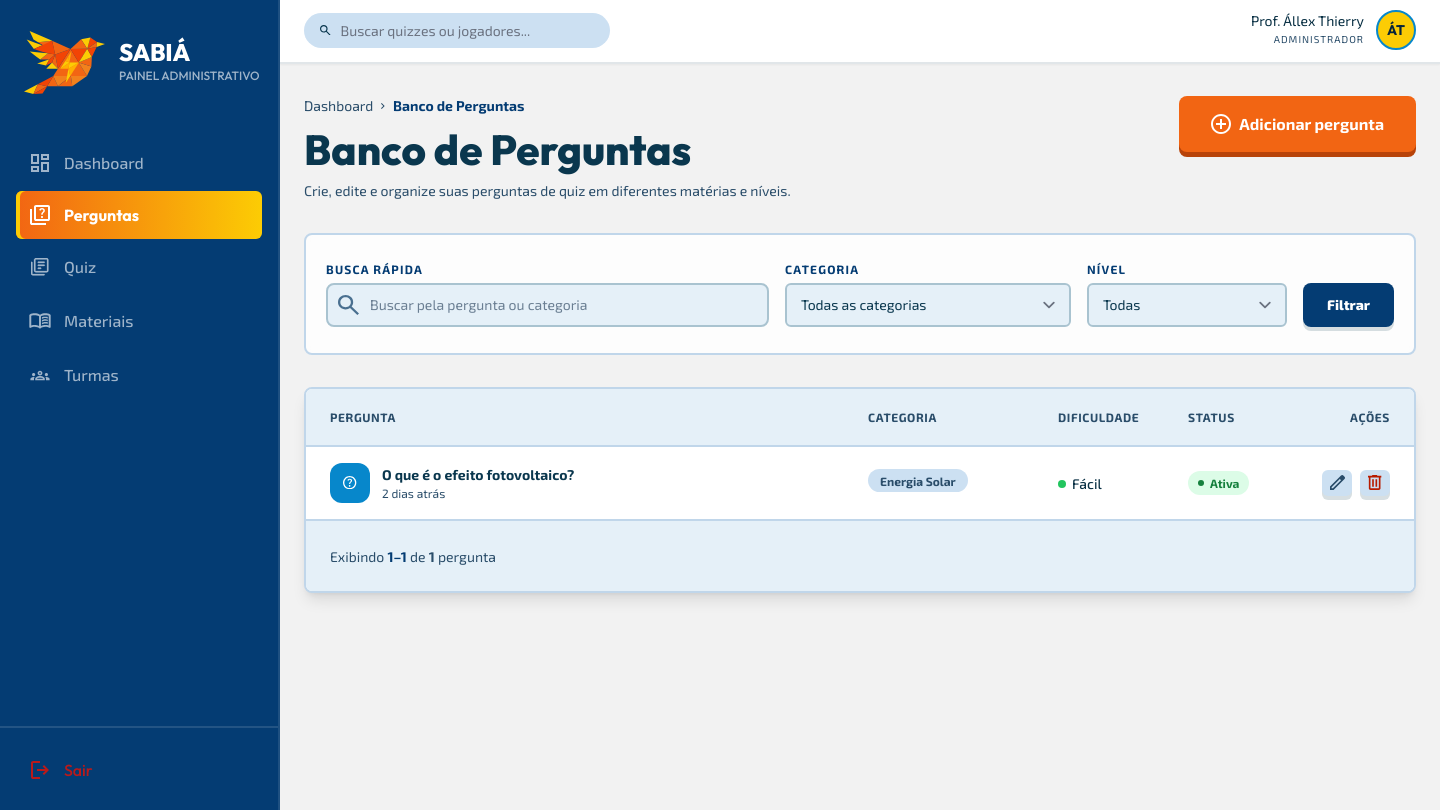
Test: Banco de perguntas › cancelar a exclusão não apaga nada
Click the button named "Excluir: O que é o efeito fotovoltaico?" at (1375, 483), box [1360,470,1390,496]
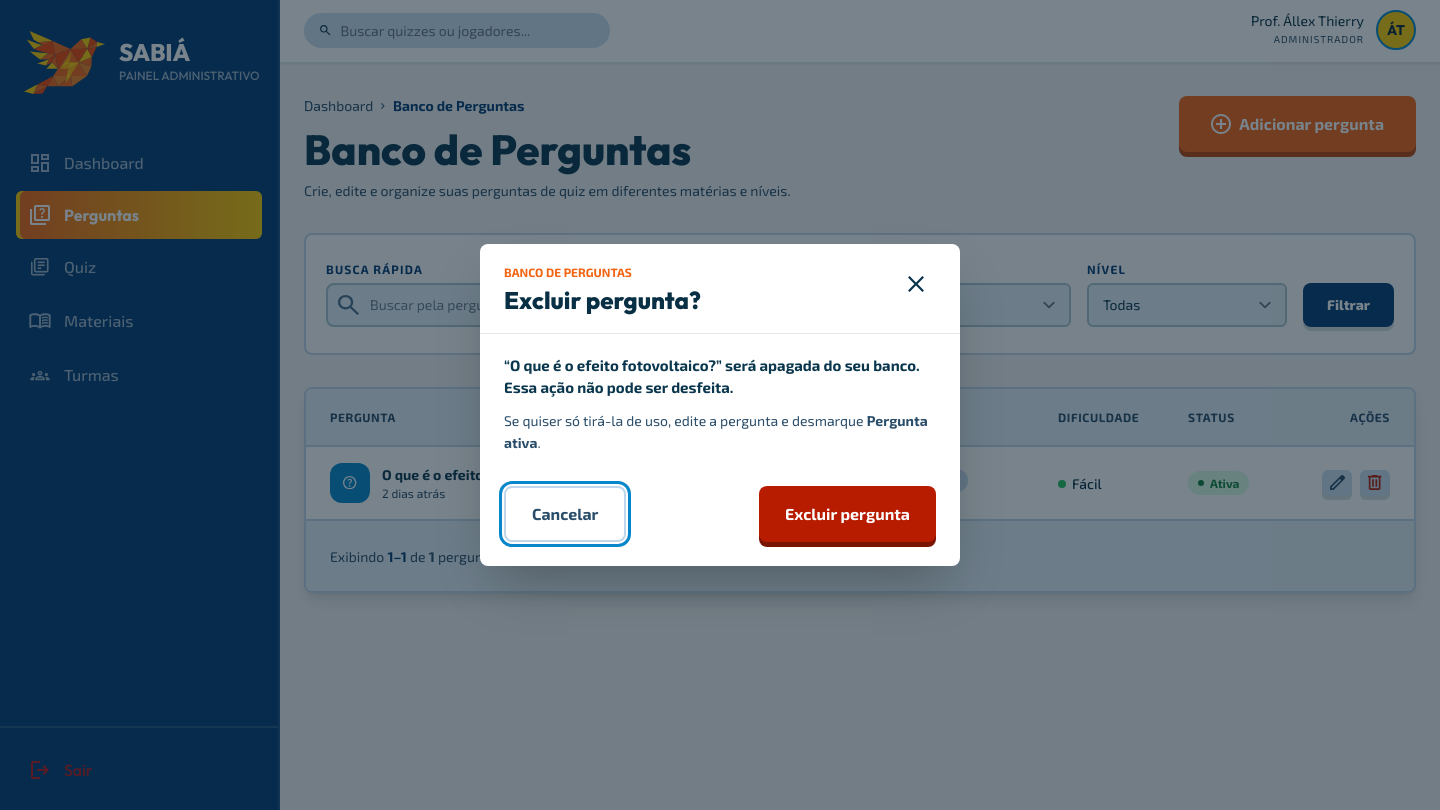
Press Escape
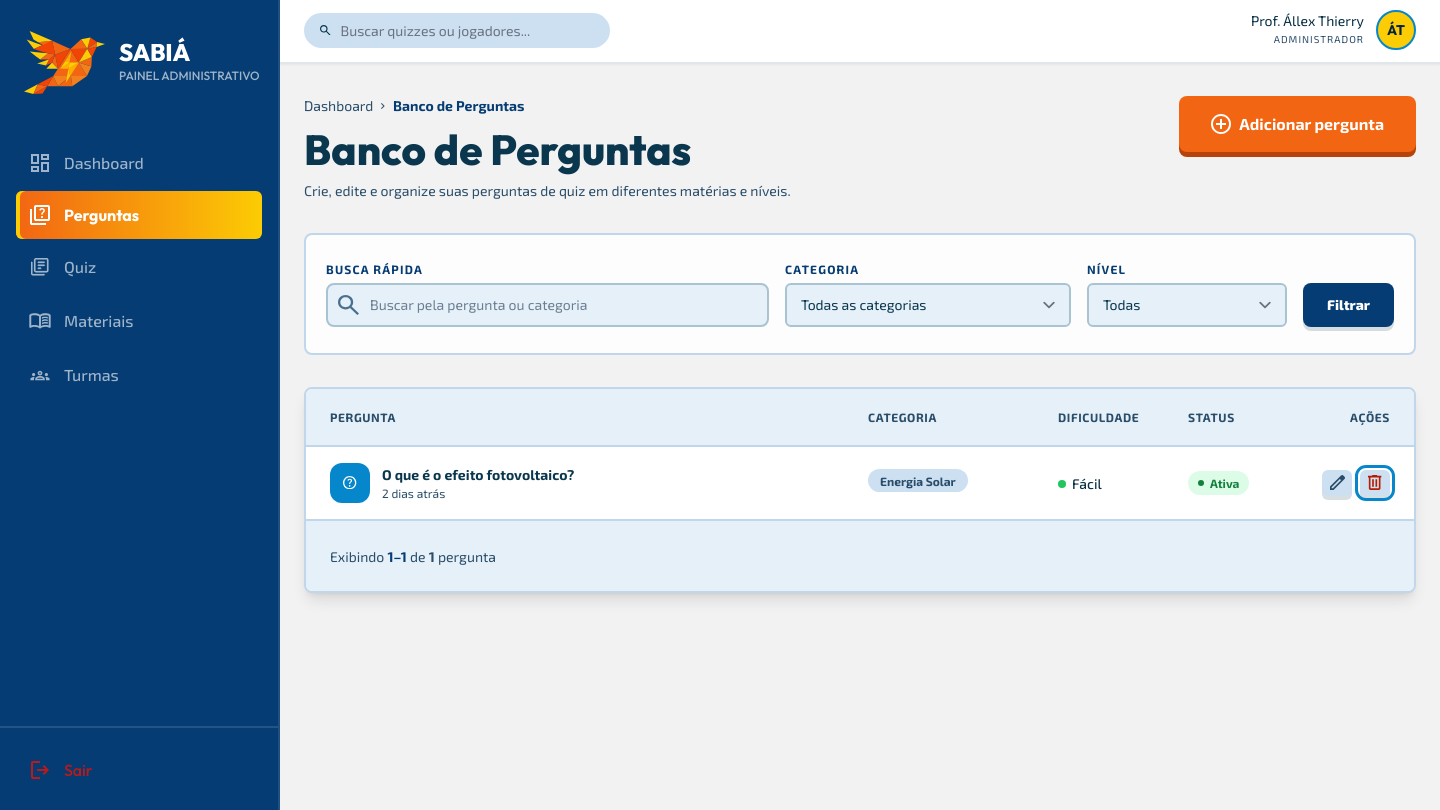
Result: the dialog is gone
